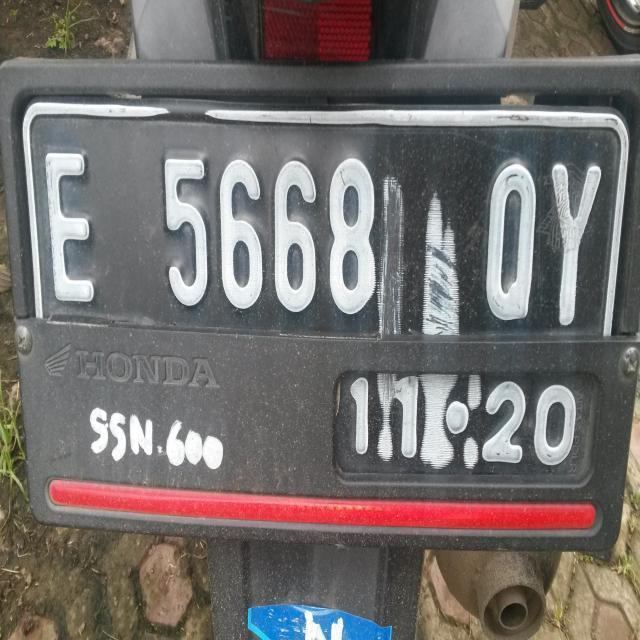5: (157, 142, 214, 316)
6: (268, 144, 324, 324), (214, 144, 268, 324)
8: (324, 141, 379, 324)
E: (42, 136, 99, 318)
Q: (484, 150, 540, 332)
Y: (547, 153, 602, 334)
